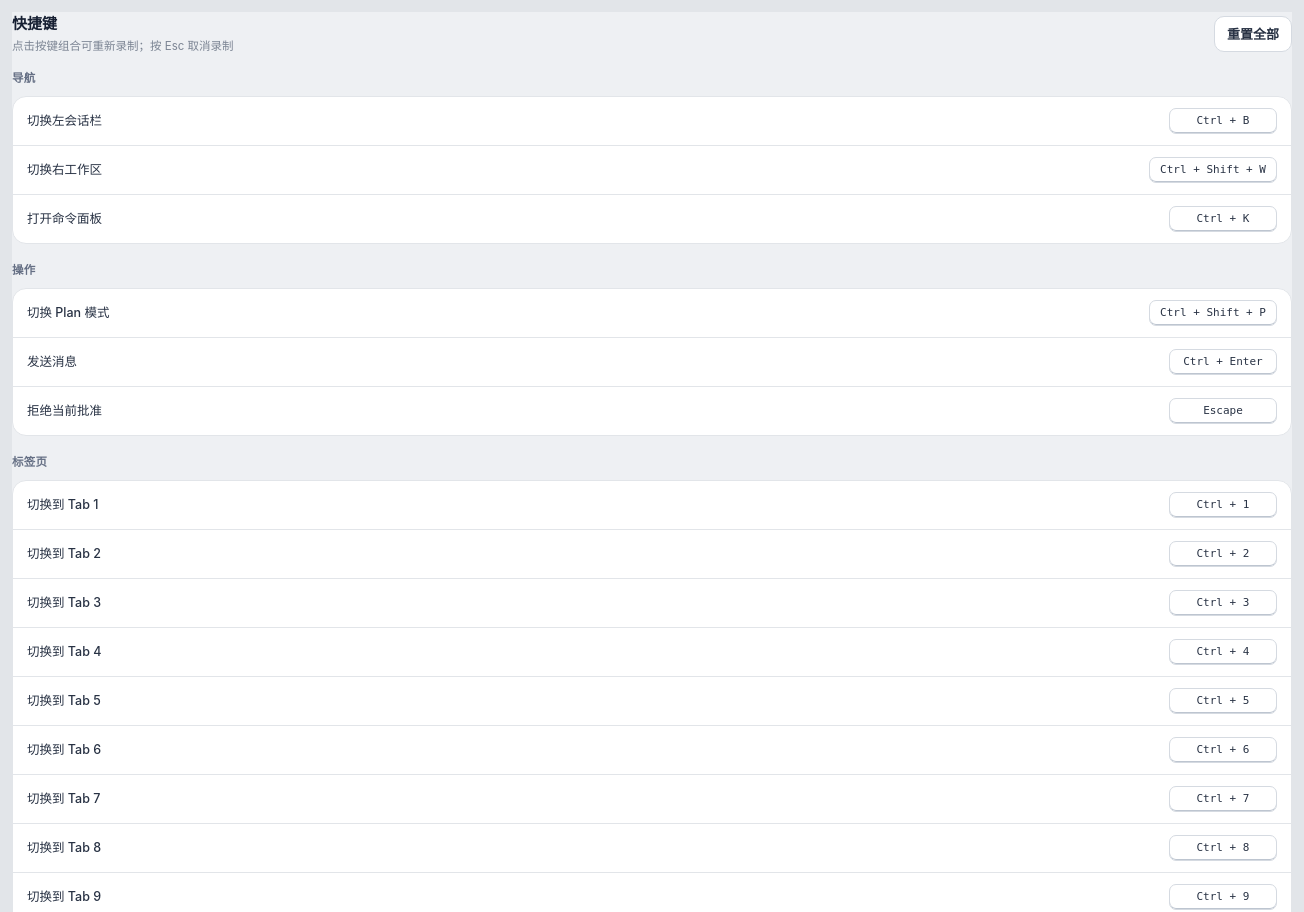
SettingsShortcutsPanel › enters recording mode when a row is clicked
Click the button with class "settings-shortcut-row" showing "切换左会话栏 Ctrl + B" at (65, 121), box top-left (27, 108), bottom-right (1277, 134)
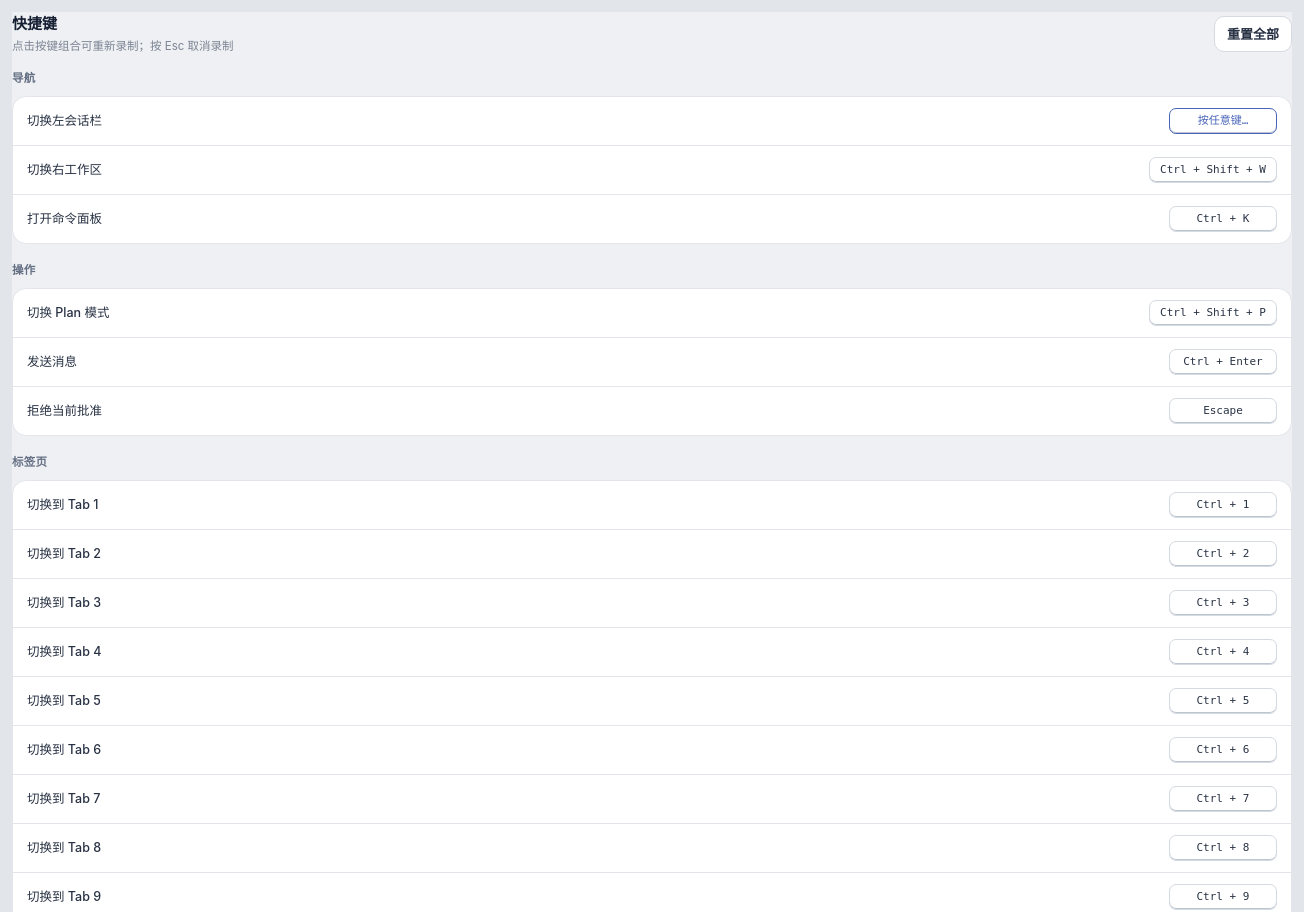
Expected: the text with class "kbd" reads "按任意键…", top-left (1198, 114), bottom-right (1248, 127)
